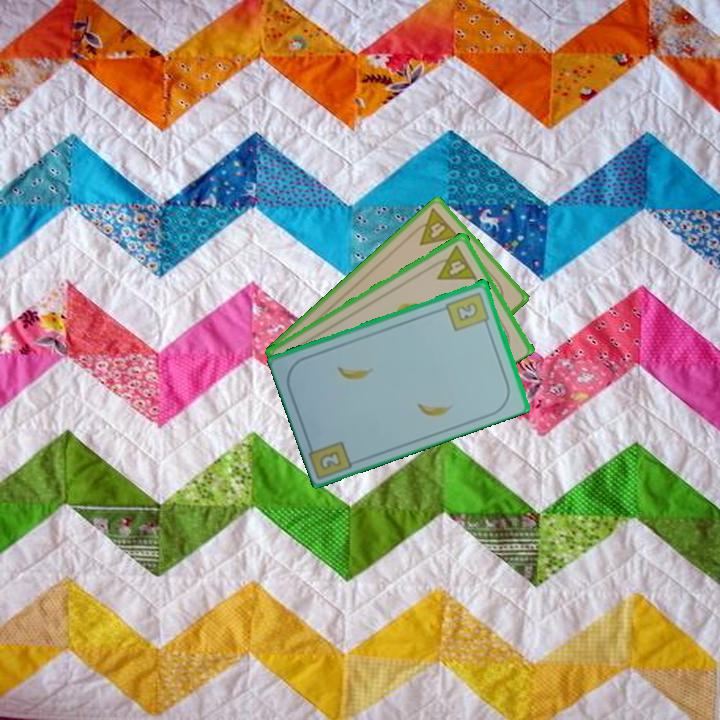2b: (443, 288, 492, 334), (316, 447, 345, 473)
4p: (407, 204, 462, 248), (428, 241, 479, 283)
